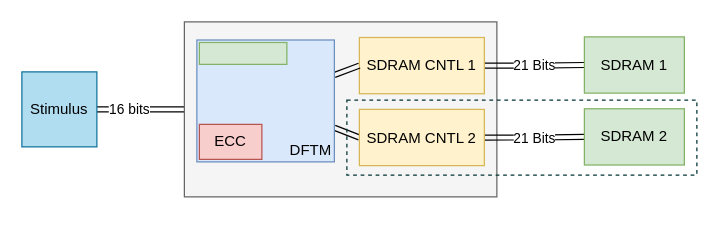
The diagram is 719 pixels wide and 241 high, and some of its shapes have lost their labels. The shapes that lost their labels are listed below. From the top down, each one's box as (x1, y1, x2, y2) in pixels, then its label:
(198, 41, 287, 64): I_RAM
(183, 21, 497, 197): Memory Controller
(346, 99, 697, 175): *Only active when ECC is Reed Solomon
